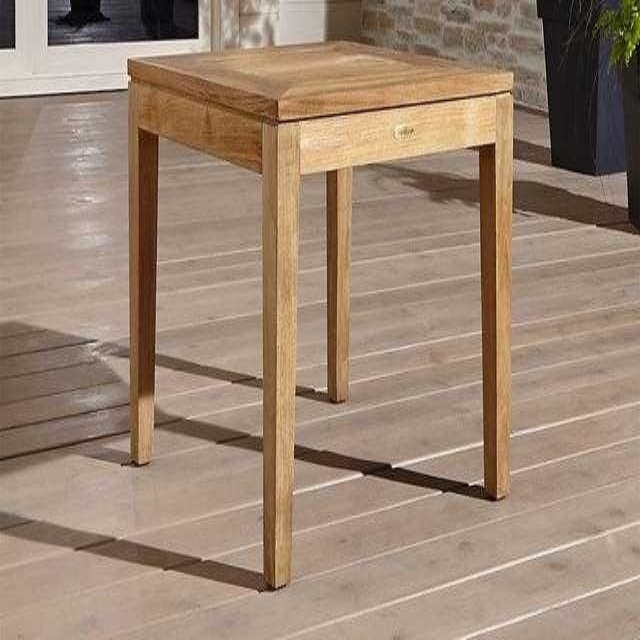obstacle: (128, 43, 512, 587), (537, 0, 625, 172)
